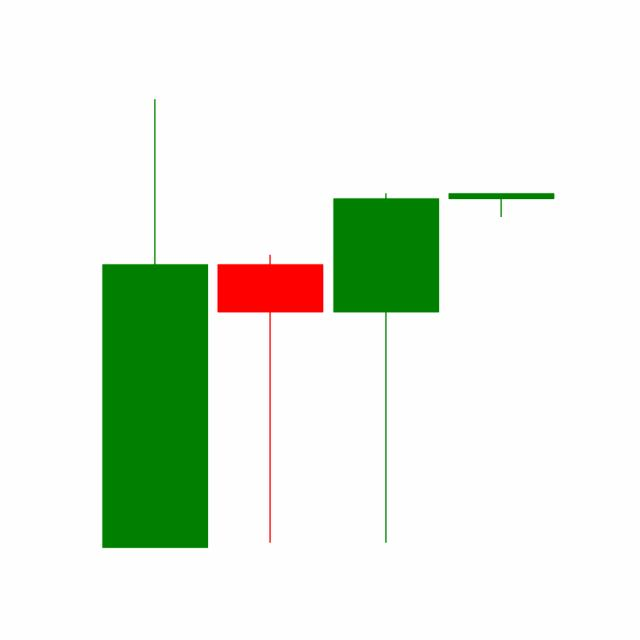Hanging Man: (328, 189, 444, 546)
